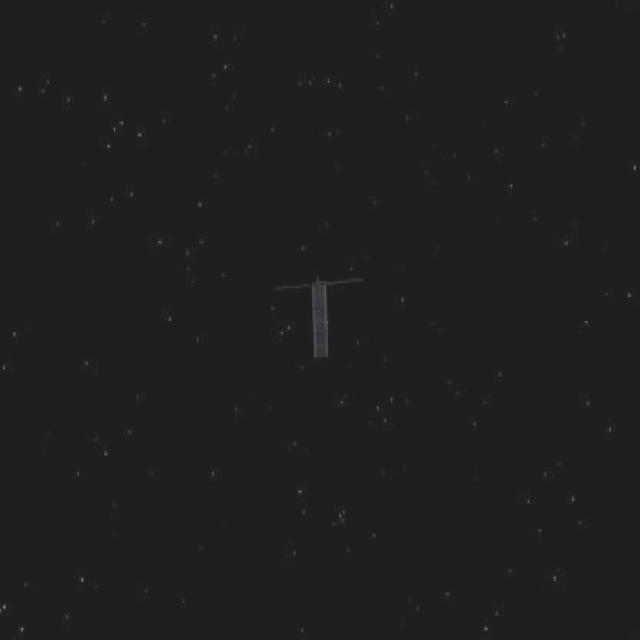medium_debris: (278, 264, 359, 364)
